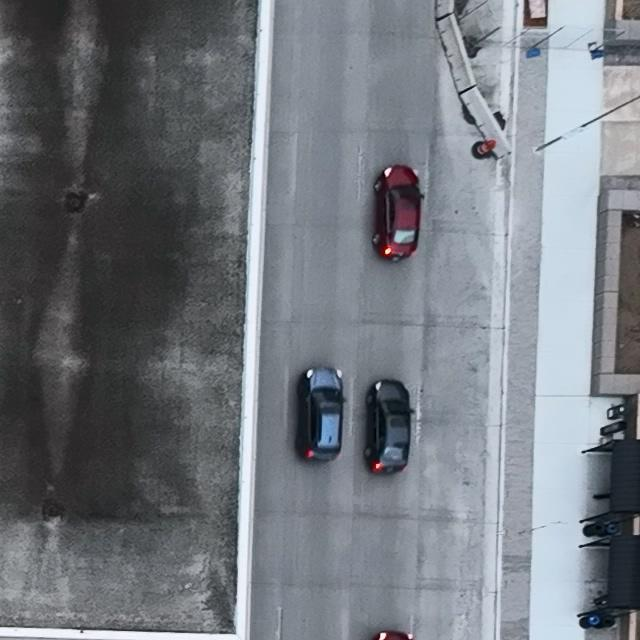car: (372, 164, 426, 260), (364, 379, 416, 474), (297, 366, 347, 463)
